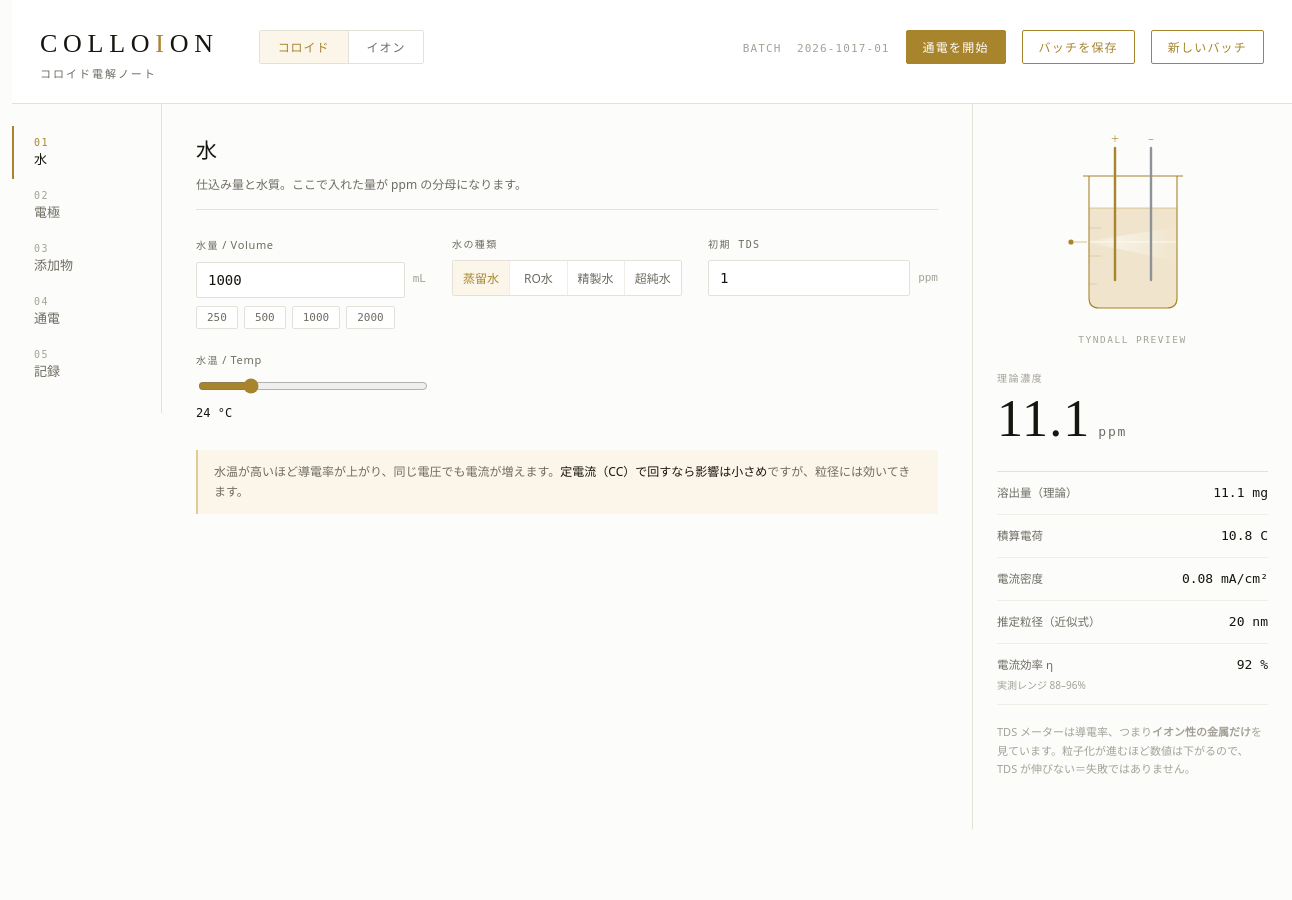
Test: App › コロイド ⇄ イオンでチンダル表示が切り替わる
Expected: the text "TYNDALL PREVIEW" is shown, [1078,334,1187,345]
Expected: the text "推定粒径（近似式）" is shown, [997,612,1100,632]
Click the button "イオン" at coordinates (386, 47), box [348,31,423,63]
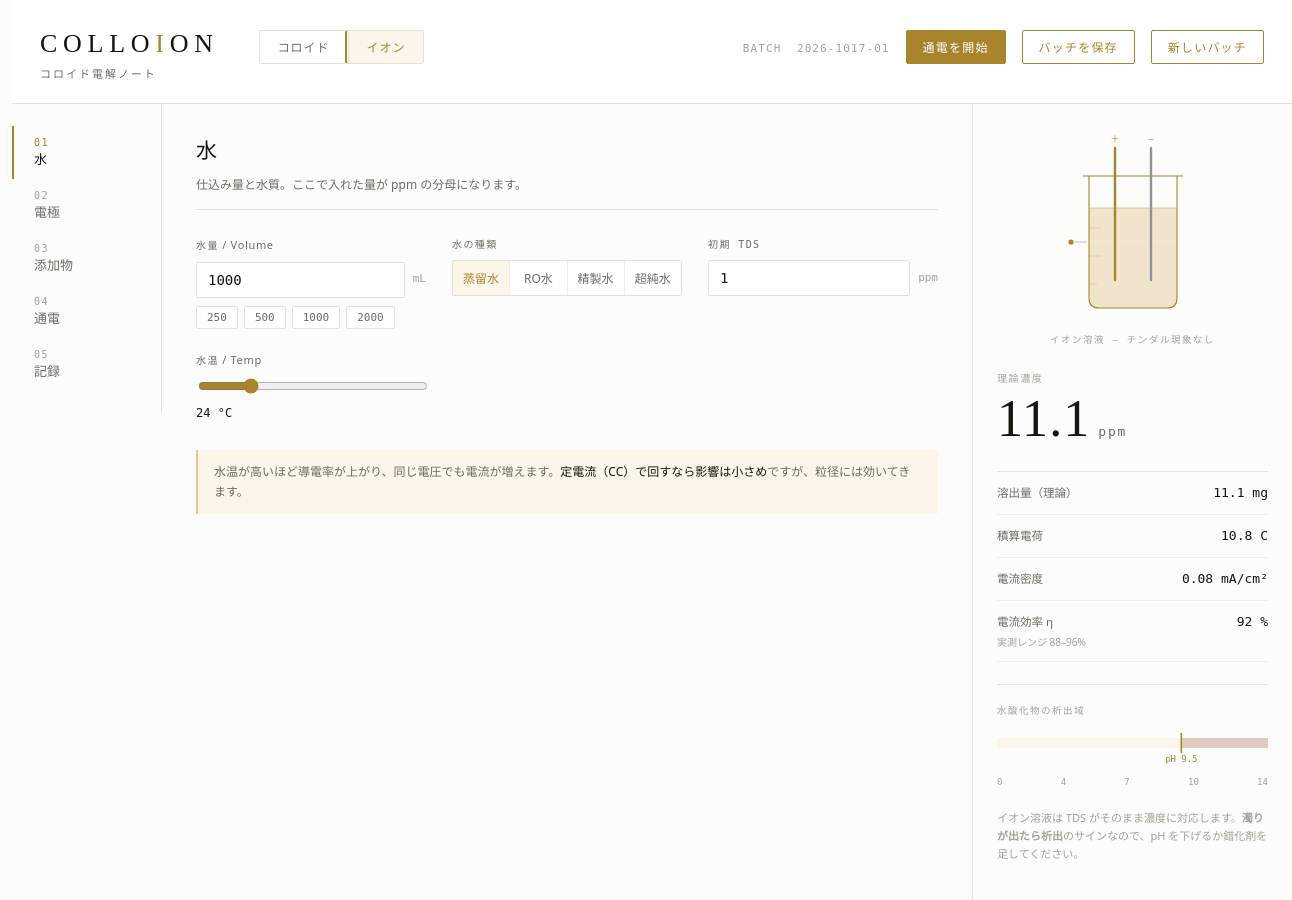
Result: the text "イオン溶液 — チンダル現象なし" is shown at [1050,334,1215,345]
Result: the text "推定粒径" is gone
Result: the text "水酸化物の析出域" is shown at [997,705,1085,716]
